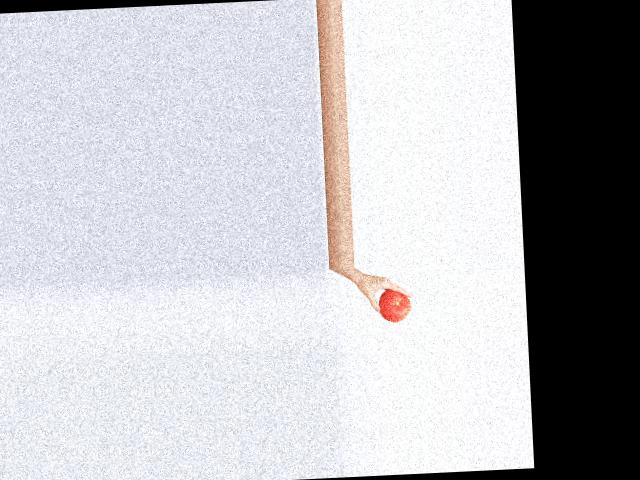tomato: (378, 289, 412, 322)
